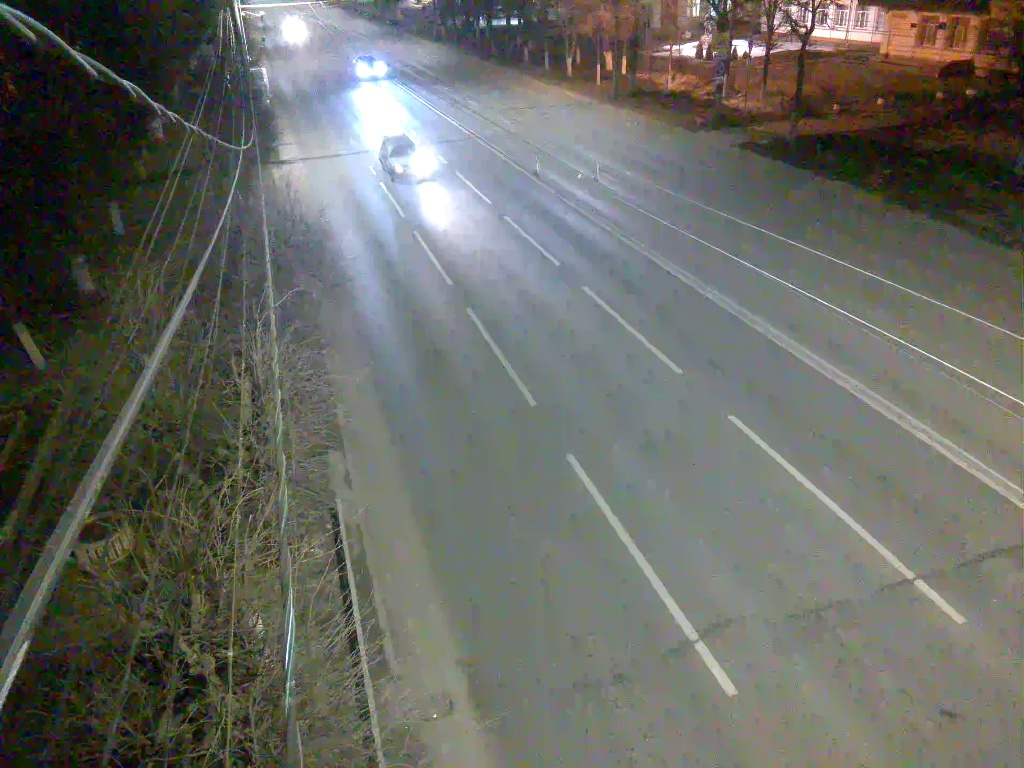car: (374, 129, 435, 187)
